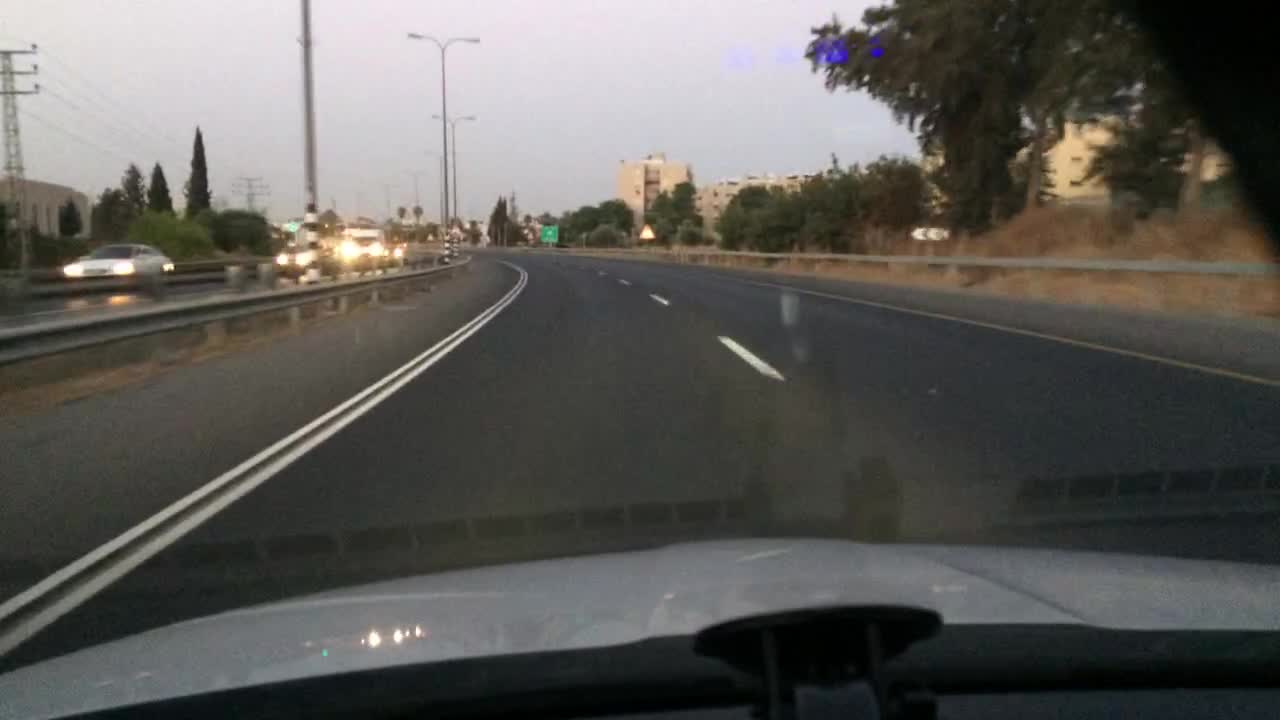car: (60, 241, 176, 278), (274, 240, 337, 276), (340, 227, 386, 264)
traffic sign: (636, 221, 656, 240), (541, 226, 557, 244)
